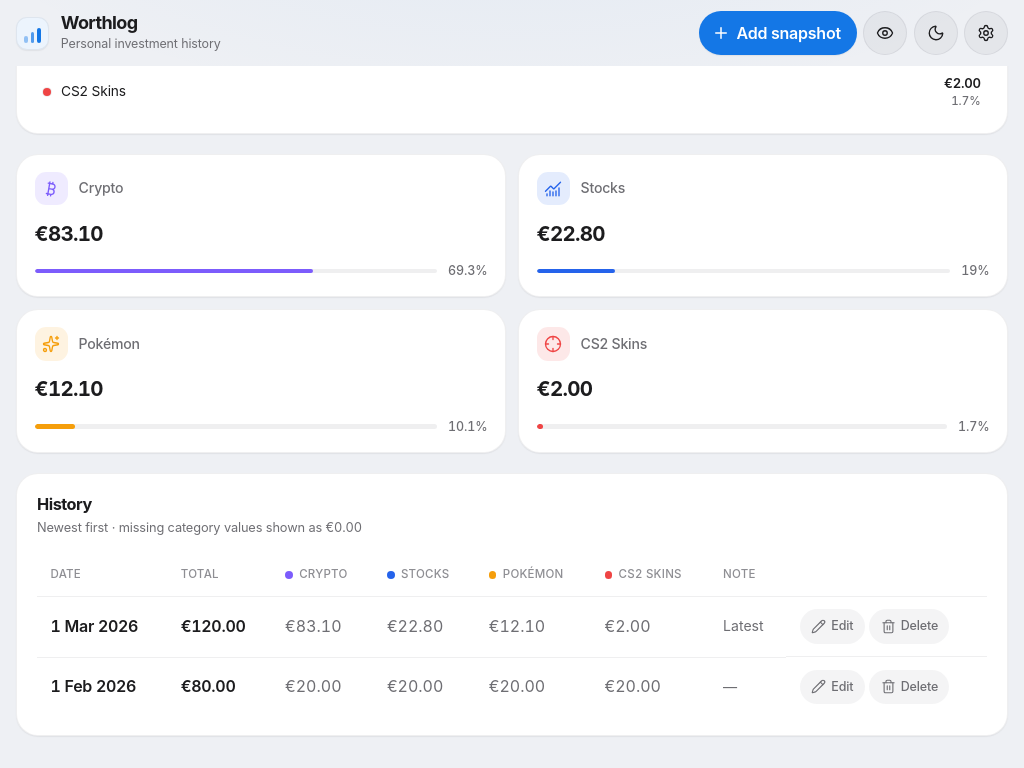
it: snapshot workflow › requires delete confirmation and deletes after confirm
This screenshot has width=1024, height=768.
(page scrolled)
Expected: the heading "History" is shown, [37,494,92,514]
Click the button with aria-label "Delete snapshot for": (909, 626) [869,609,949,644]
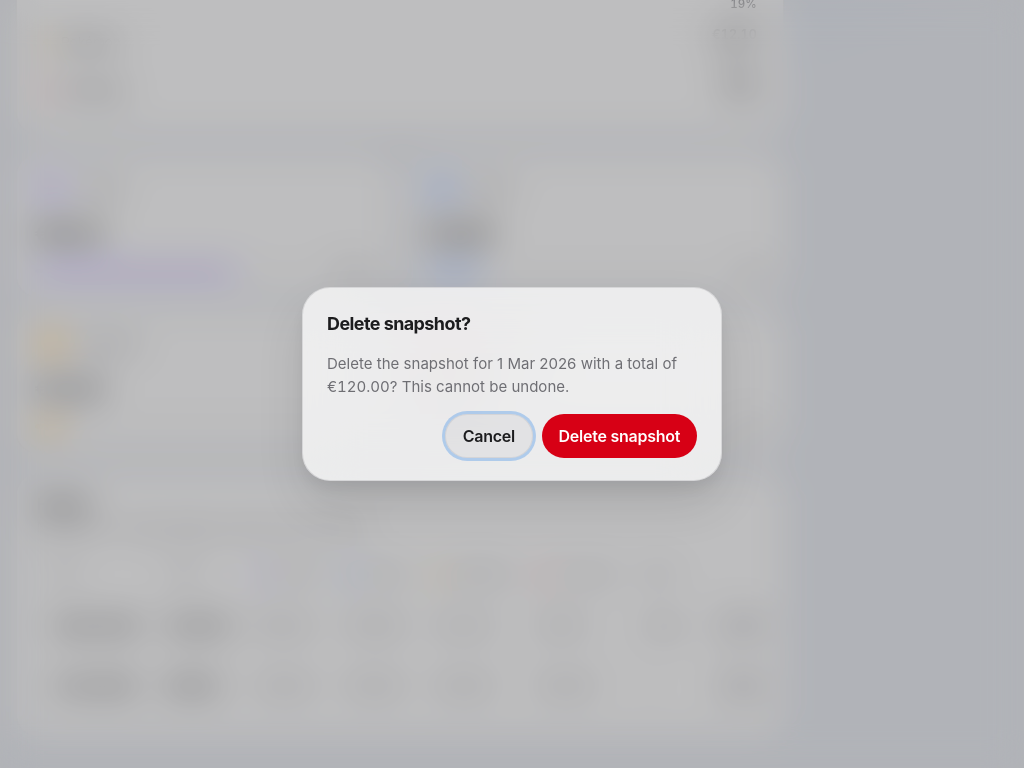
Expected: the dialog "Delete snapshot?" shows "2026", [497,354,576,373]
Expected: the dialog "Delete snapshot?" shows "120", [327,377,390,396]
Click the button "Delete snapshot": (619, 436) [542,414,697,458]
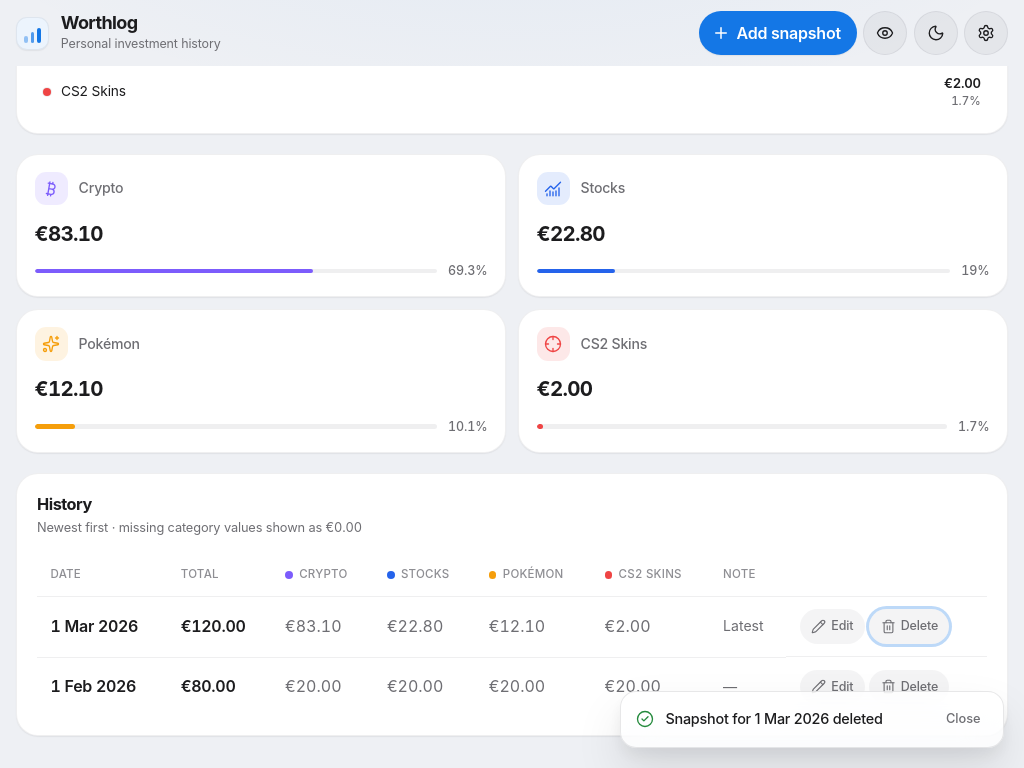
Expected: the text "Snapshot for 1 Mar 2026 deleted" is shown, [665,710,883,727]
